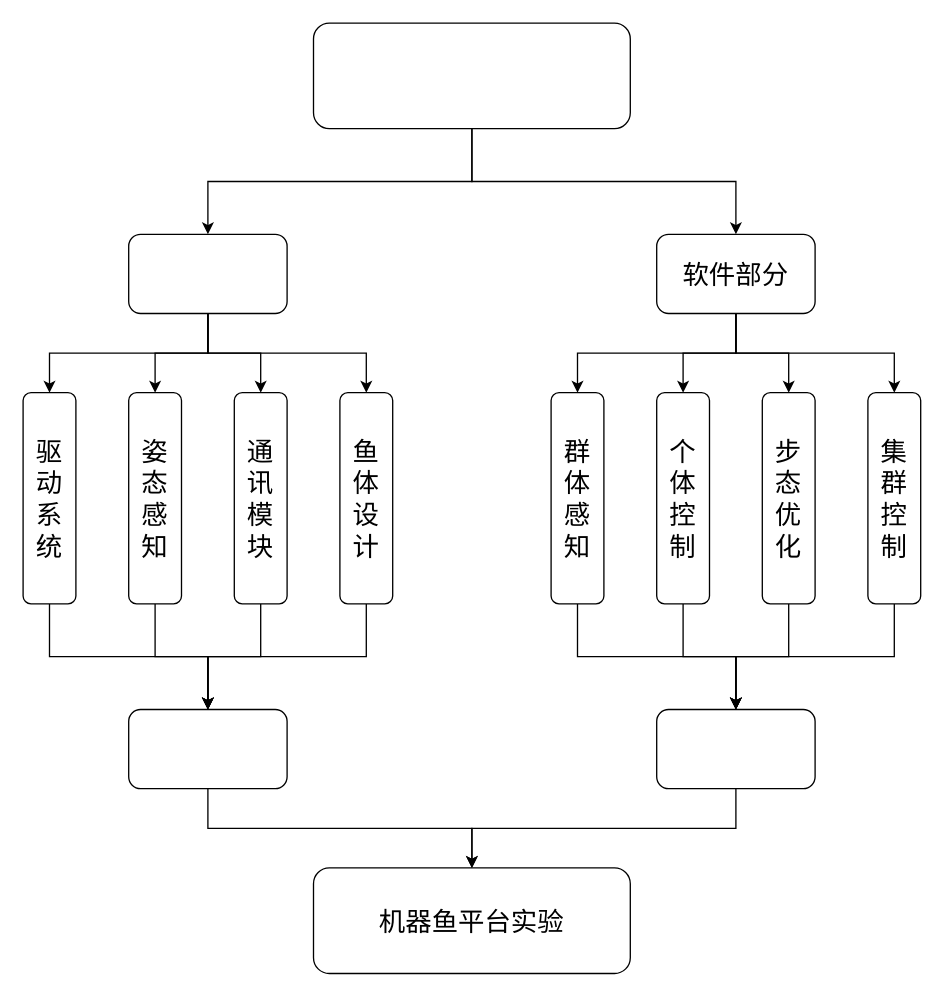
The diagram is 944 pixels wide and 997 high, and some of its shapes have lost their labels. The shapes that lost their labels are listed below. From the top down, each one's centre as x and y in pixels, then its label:
[471,75]: 查阅文献，学习本课题所需的各种理论知识
[207,273]: 硬件部分
[207,748]: 制作并组装 机器鱼
[735,748]: 模拟仿真
